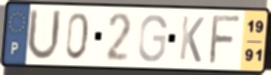0: (64, 11, 92, 61)
2: (105, 11, 133, 64)
F: (206, 14, 244, 67)
G: (136, 12, 169, 64)
K: (177, 14, 207, 65)
U: (25, 7, 63, 63)
